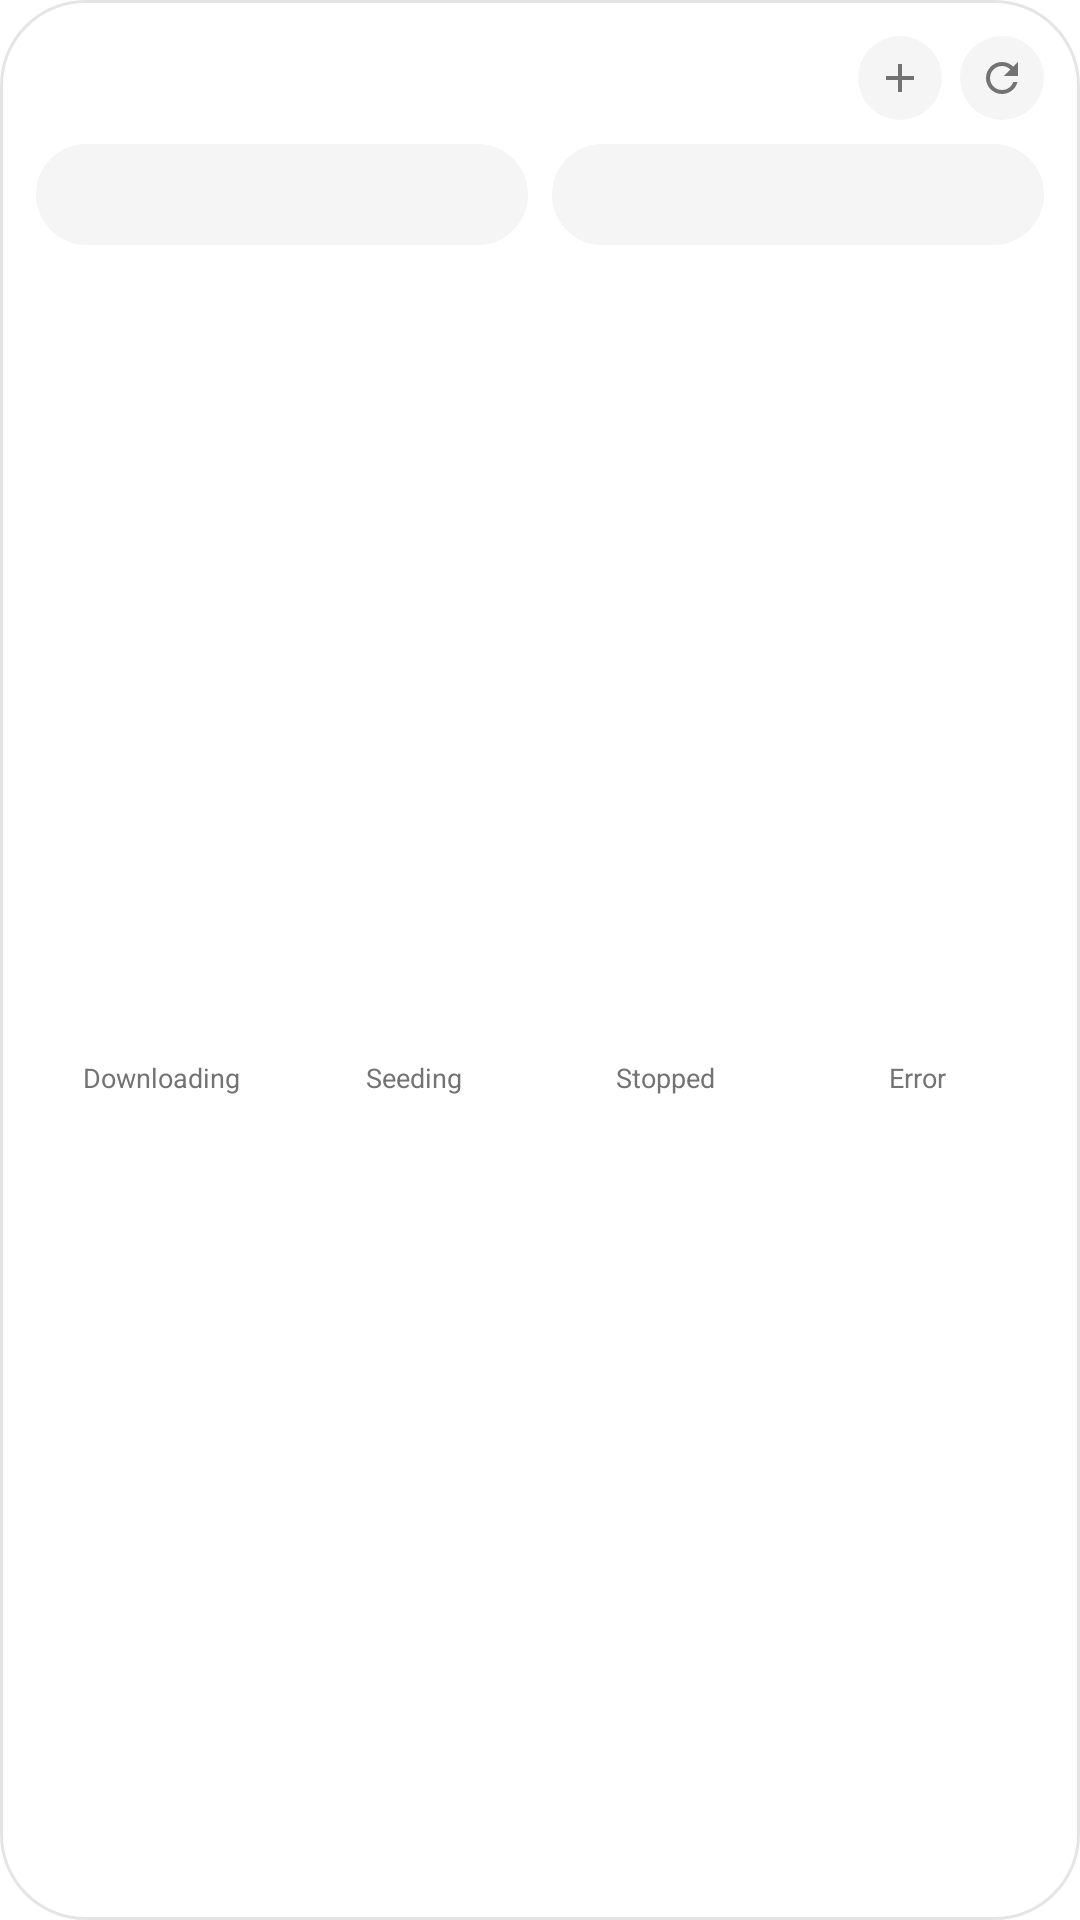

Icon click points for this 1080 × 1920 phone screenshot, format point (x, y):
Add torrent: point (900, 78)
Refresh: point (1002, 78)
